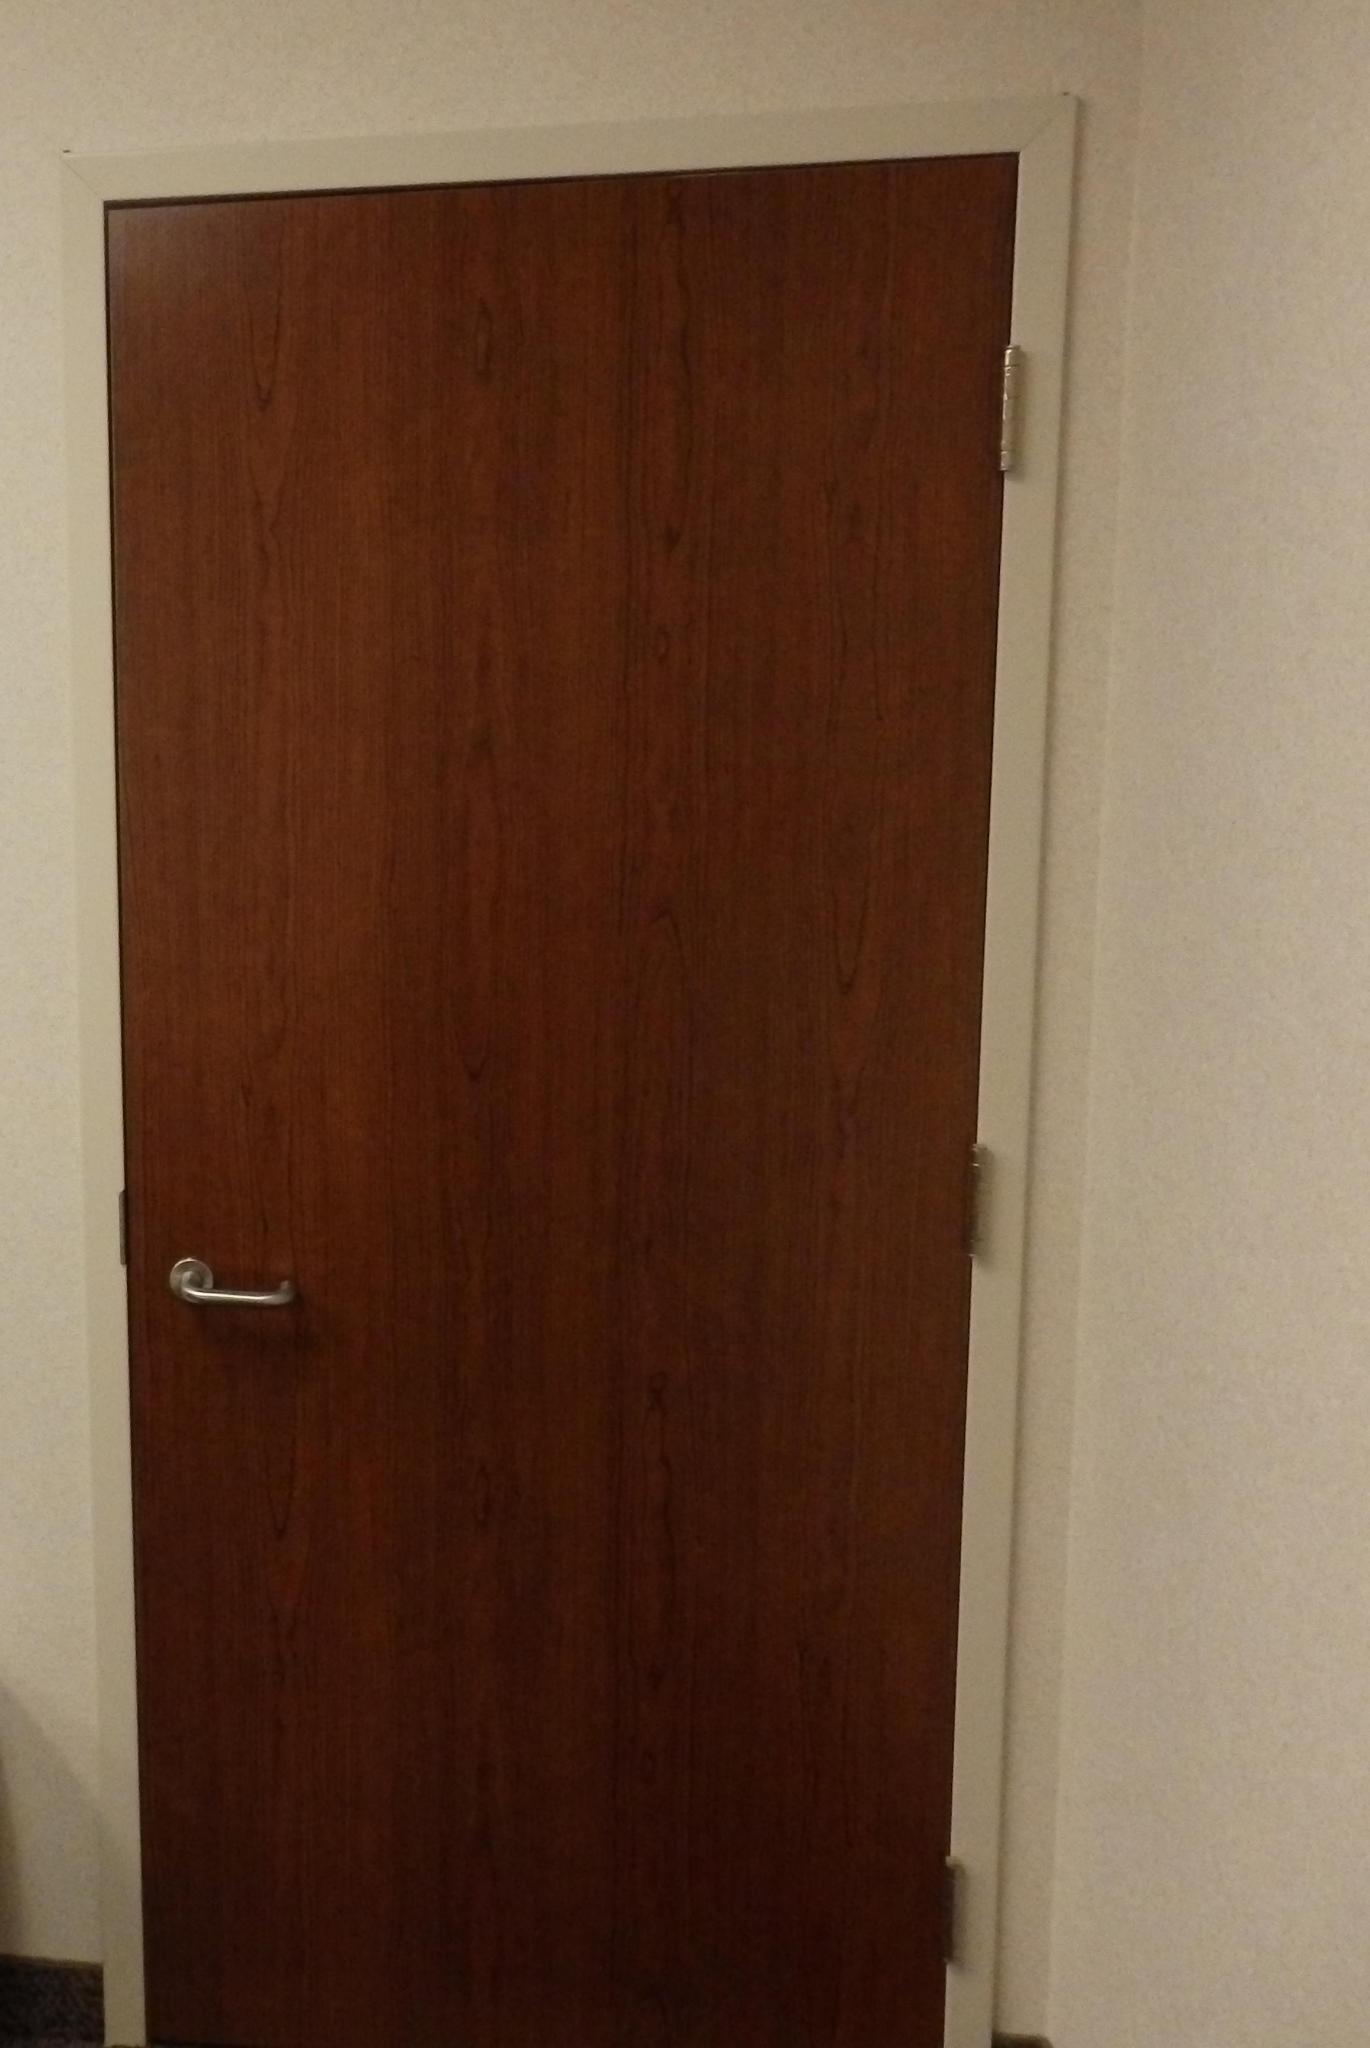door: (142, 199, 960, 2046)
handle: (173, 1220, 301, 1348)
